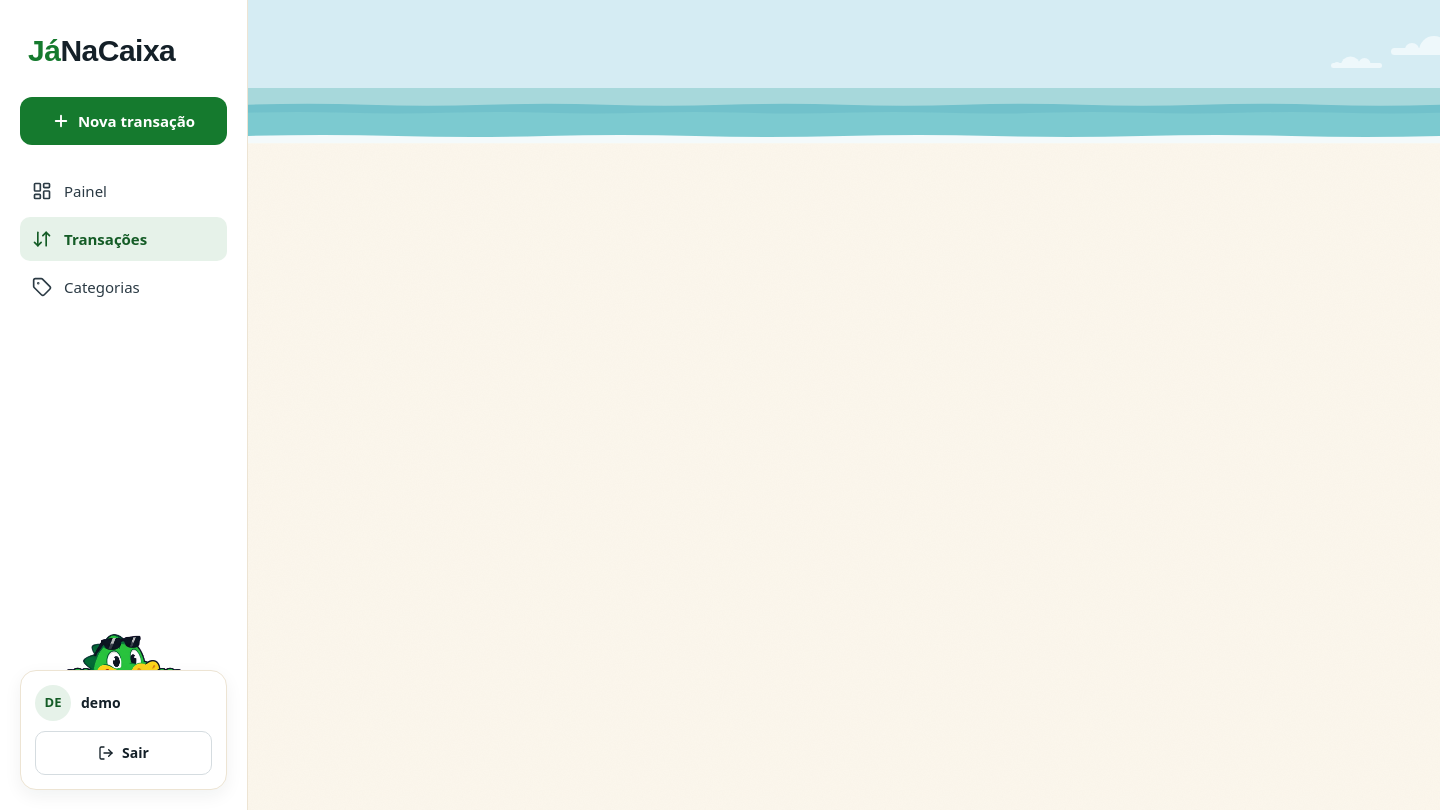
layout do novo design › "Nova transação" abre o modal a partir de qualquer tela
Click the button "Nova transação".
click(124, 121)  # box [20,97,227,145]
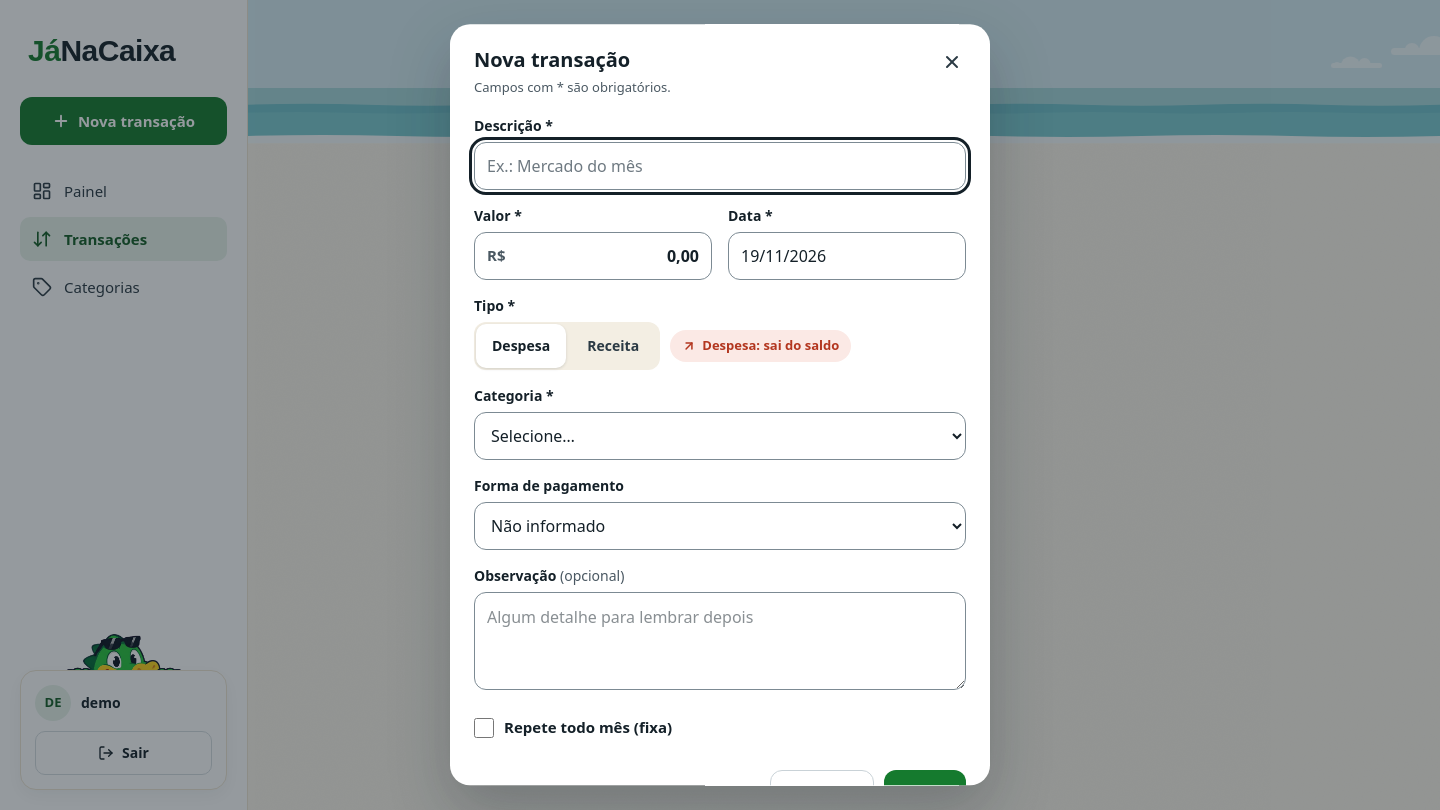
expect the dialog "Nova transação" is shown: met, box [450,24,990,786]
